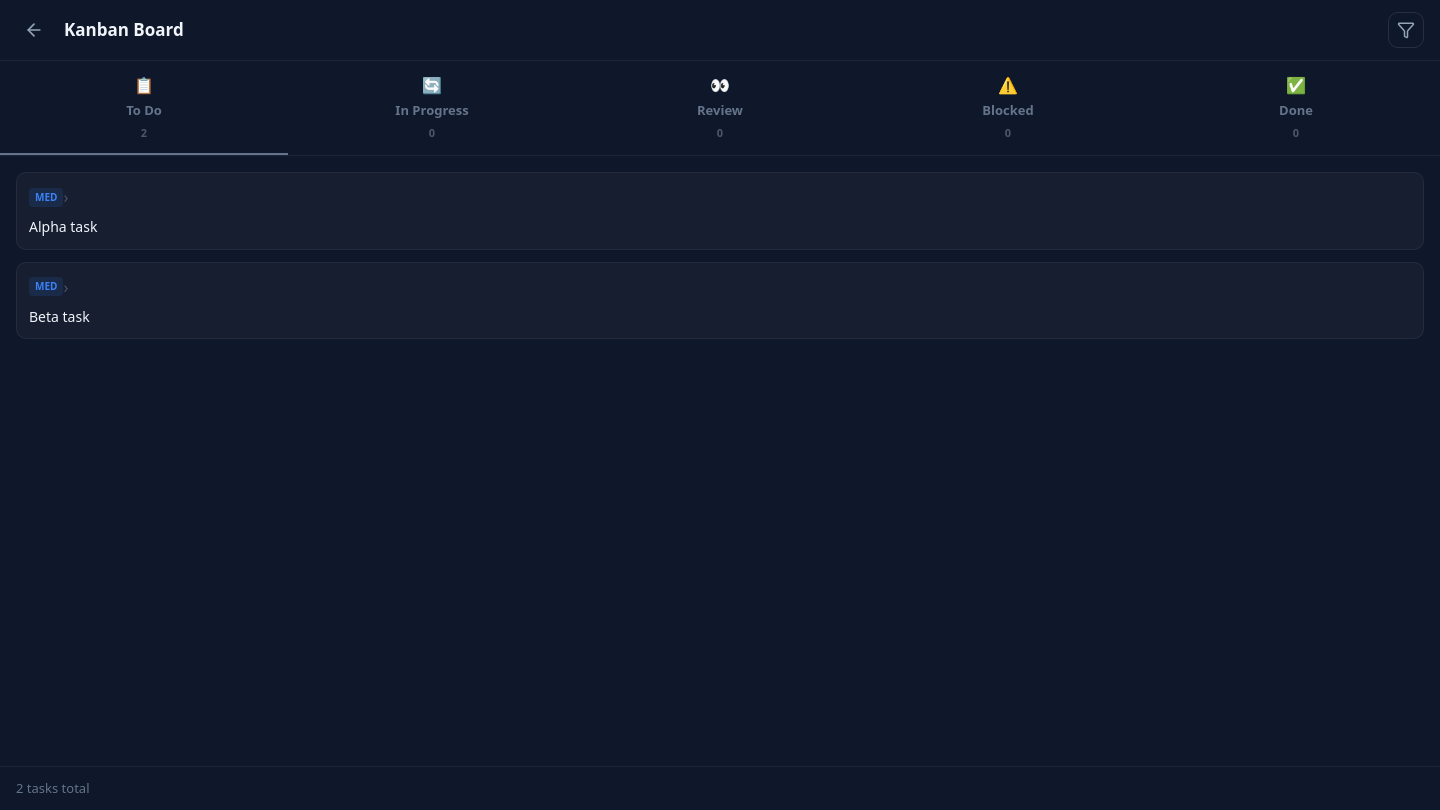
Test: MobileKanbanPanel › filter sheet › filters tasks by selected project and shows project name
Click the button with class "lucide-funnel" at (1406, 30), box [1388,12,1424,48]
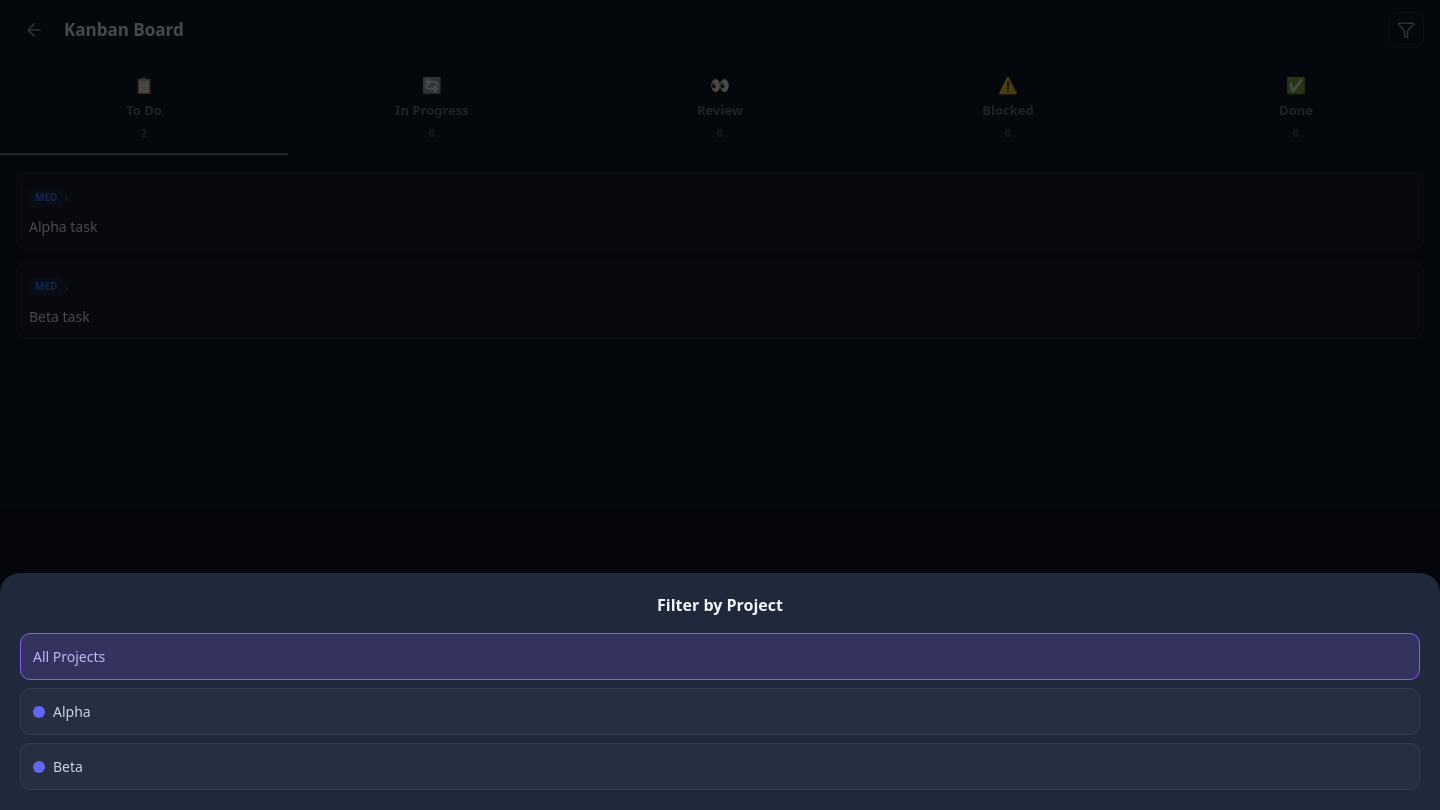
Click the button "Alpha" at (72, 712), box [20,688,1420,735]
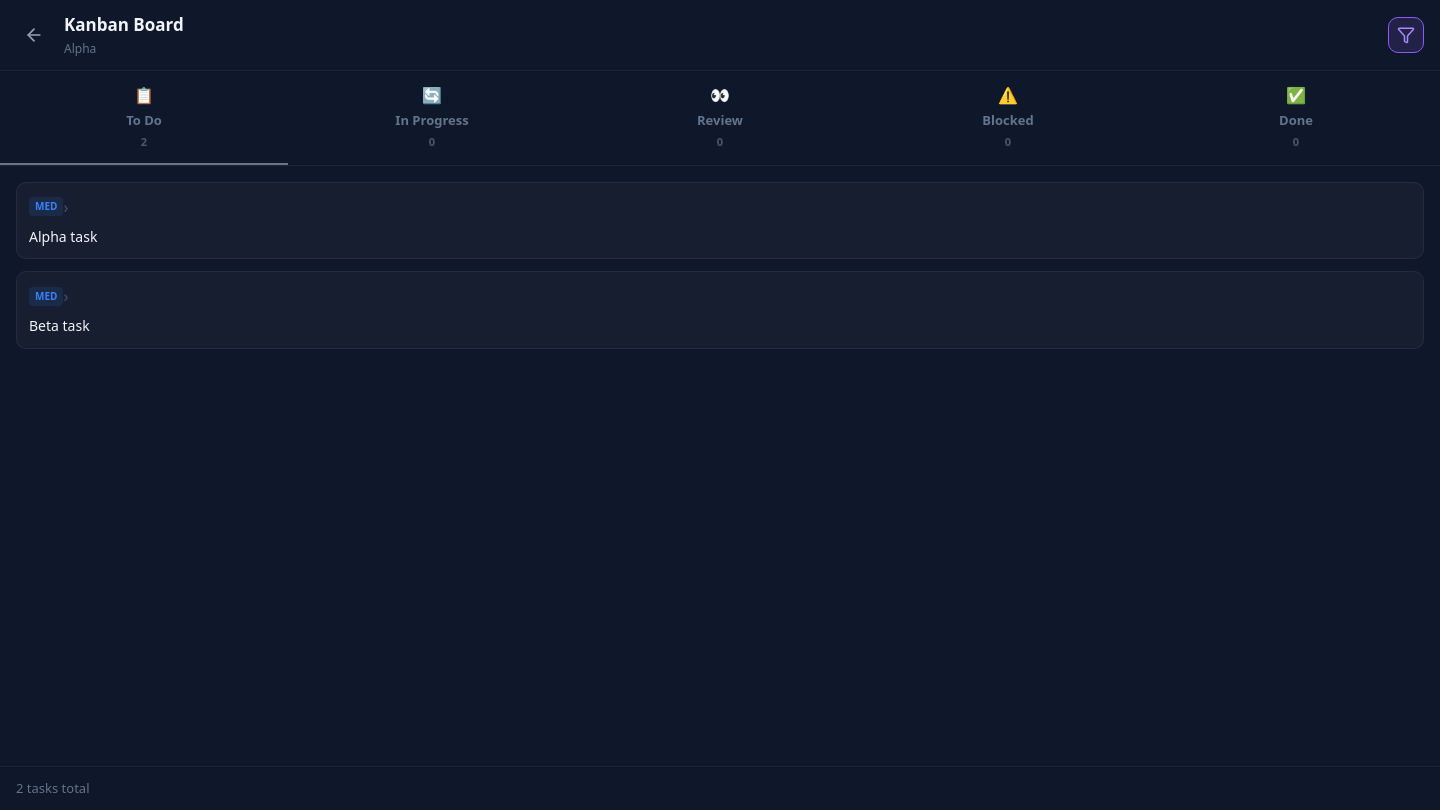
Expected: the button "Filter by Project" is gone
